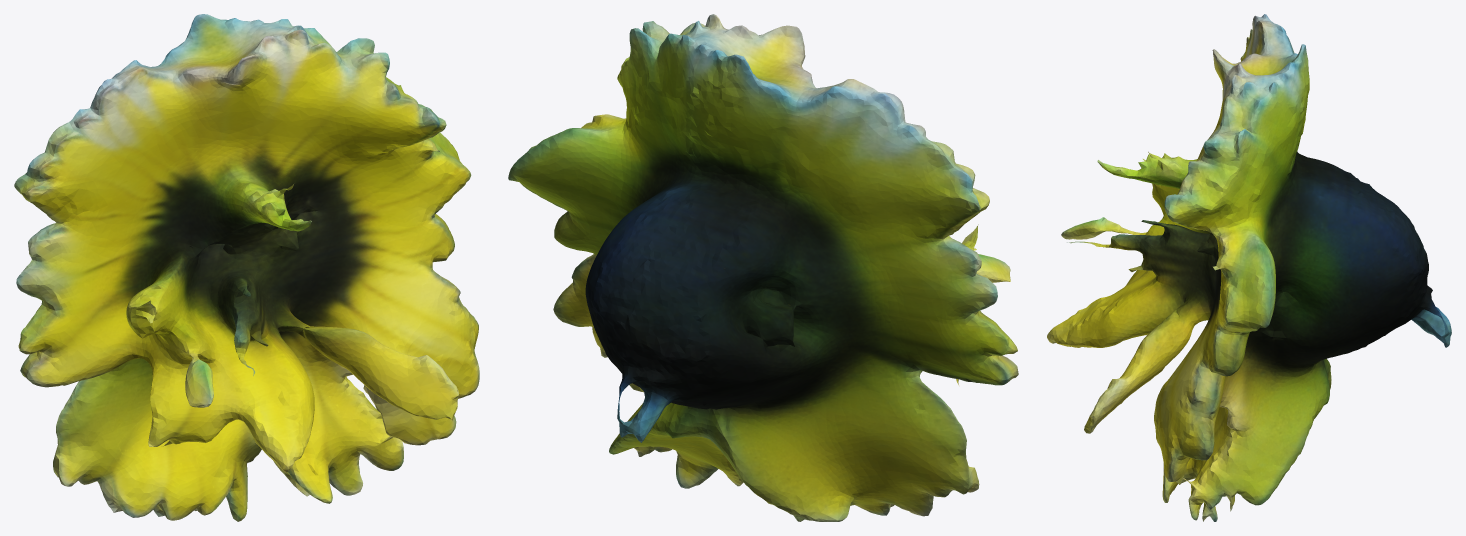
3 views of the same model, side by side, from view 1: azimuth 30°, elevation 25°; view 2: azimuth 150°, elevation 25°; view 3: azimuth 270°, elevation 25° (orthographic). The views are drawn at different scales.
Bounding box in the file's own units: 1.05 × 1.03 × 0.8654.
Materials: 1 (1 with a texture image).
